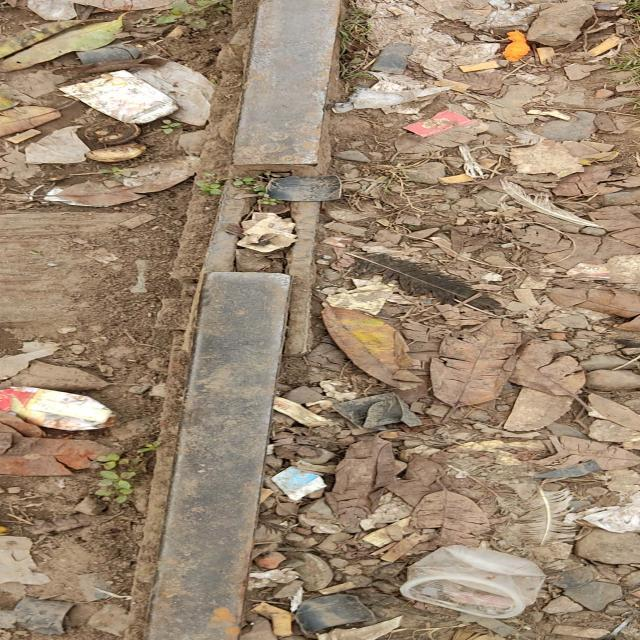broken_rail_high: (205, 152, 332, 284)
